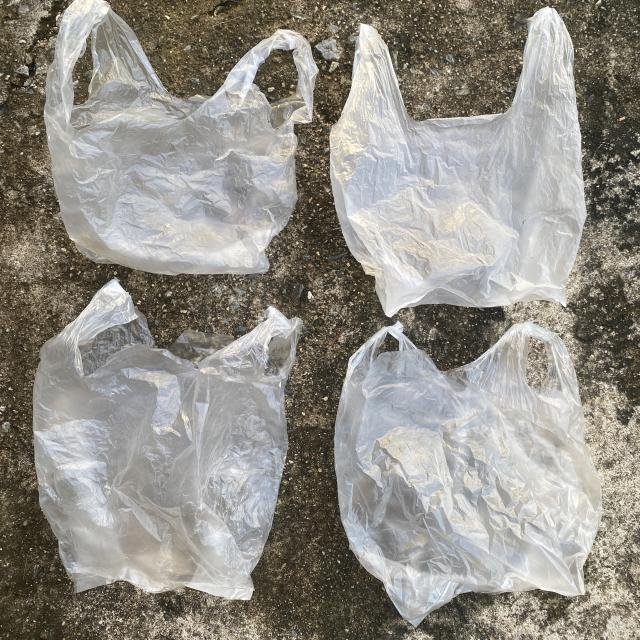Single-layer Plastic: (34, 280, 302, 599), (335, 322, 601, 625), (330, 8, 586, 316), (44, 0, 318, 275)
